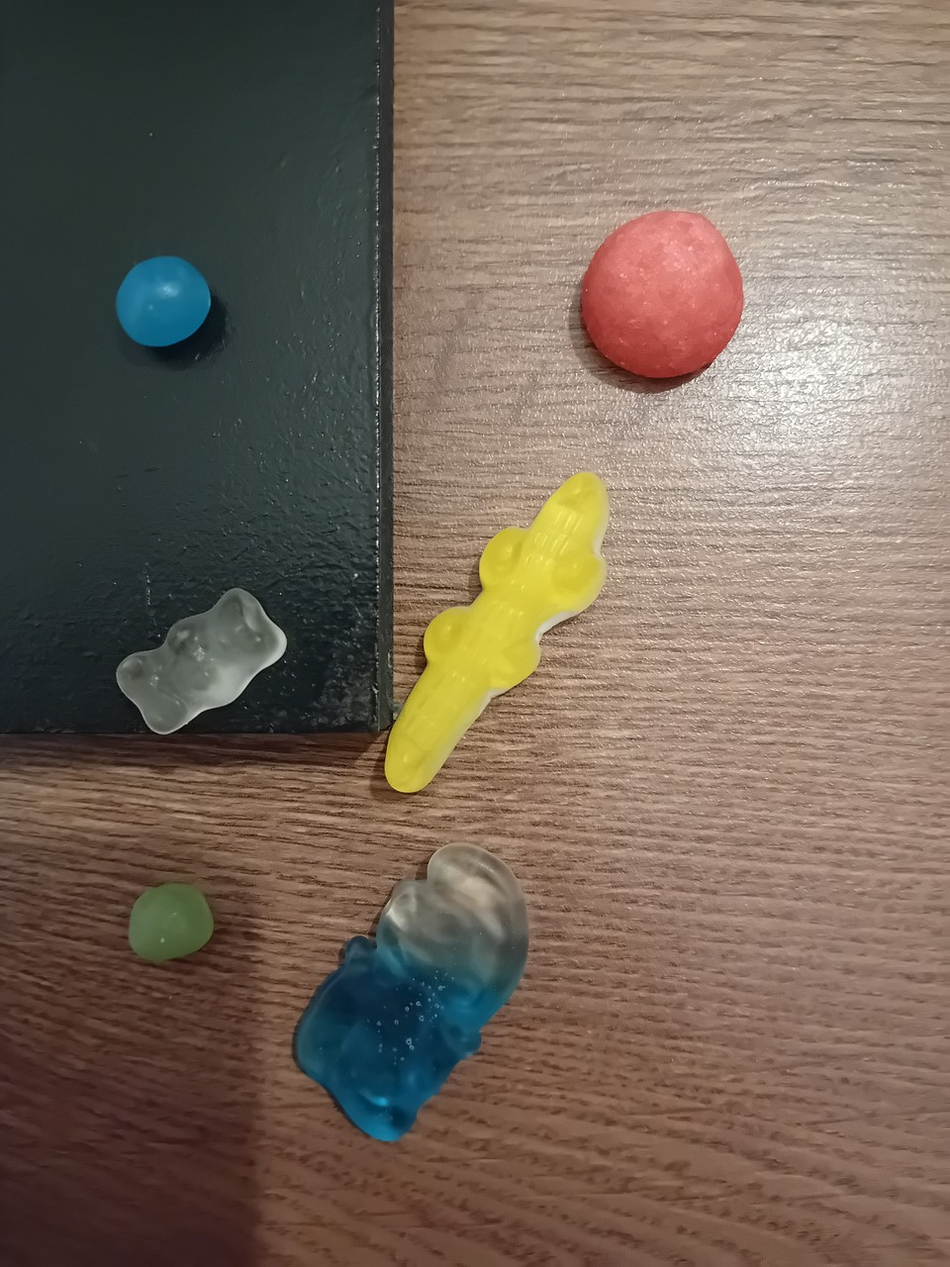crocodile_jaune: (374, 468, 623, 799)
dragibus_bleu: (108, 250, 218, 355)
dragibus_vert: (119, 876, 220, 970)
ourson_blanc: (108, 581, 297, 738)
schtroumpf_bleu-blanc: (281, 833, 543, 1155)
tagada_fraise: (574, 207, 756, 387)
